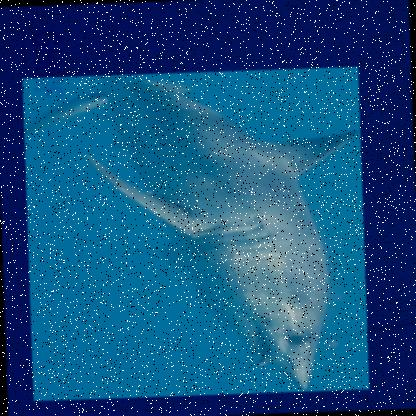mako-shark: (20, 67, 368, 402)
